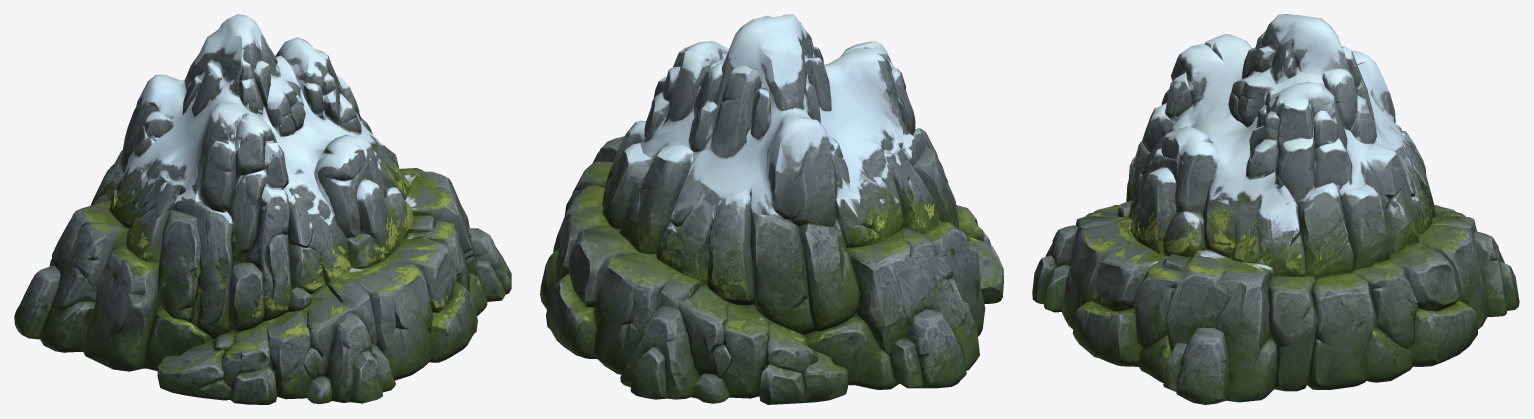
The picture shows the model from 3 angles, left to right: view 1: azimuth 30°, elevation 25°; view 2: azimuth 150°, elevation 25°; view 3: azimuth 270°, elevation 25°; orthographic projection. The views are drawn at different scales.
Parts seen in each view (by area): view 1: mountain_peak; view 2: mountain_peak; view 3: mountain_peak.
Boxes of the visible parts, <box> form: mountain_peak: <box>14,14,511,404</box>; mountain_peak: <box>540,14,1003,404</box>; mountain_peak: <box>1032,14,1519,404</box>.
Size of the model in its own units: 0.9792 by 0.63 by 0.9771.
1 material, 1 textured.
